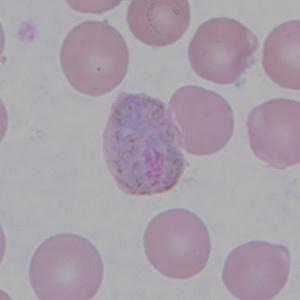Infected: (105, 92, 187, 196)
Uninfected: (59, 21, 130, 96), (189, 17, 258, 87), (29, 235, 102, 300), (145, 209, 212, 278), (171, 86, 235, 154), (245, 100, 300, 171), (223, 242, 290, 300), (127, 0, 190, 46), (263, 21, 300, 91)
